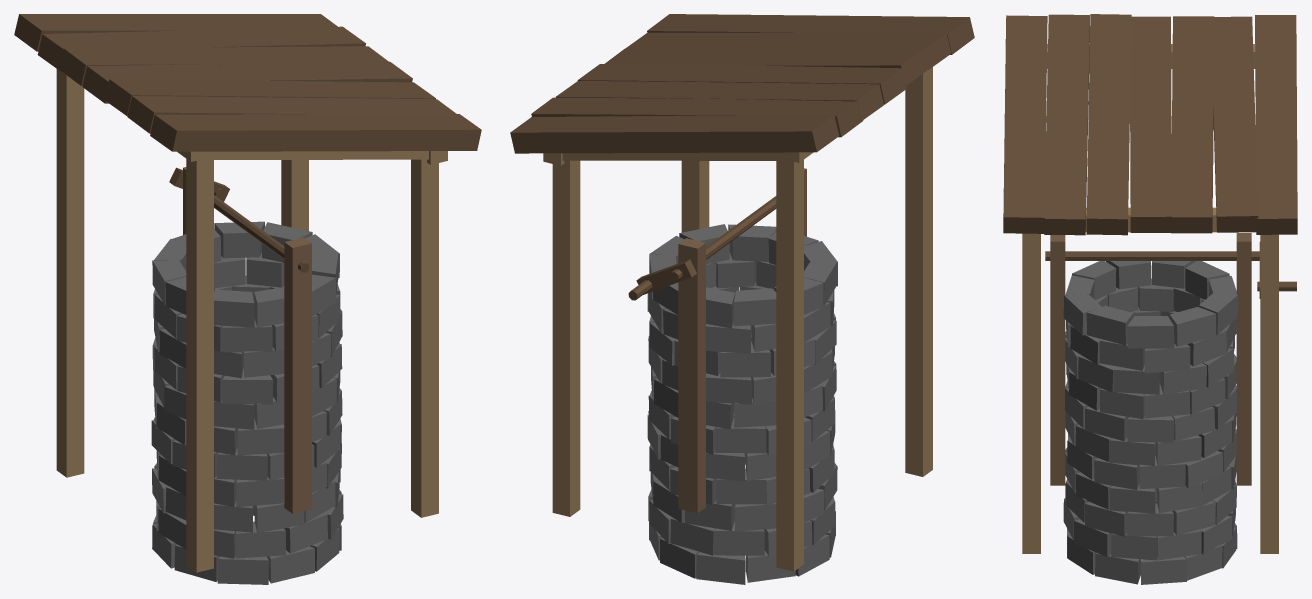
3 views of the same model, side by side, from view 1: azimuth 30°, elevation 25°; view 2: azimuth 150°, elevation 25°; view 3: azimuth 270°, elevation 25° (orthographic). The views are drawn at different scales.
Parts seen in each view (by area): view 1: jin.002, 立方体, 立方体.007, 立方体.004, 立方体.005; view 2: jin.002, 立方体, 立方体.007, 立方体.004, 立方体.005; view 3: 立方体, jin.002, 立方体.007, 立方体.004, 立方体.005.
Boxes of the visible parts, <box> form: jin.002: <box>151,221,343,584</box>; 立方体: <box>14,14,481,151</box>; 立方体.007: <box>56,69,447,572</box>; 立方体.004: <box>183,167,311,513</box>; 立方体.005: <box>169,167,309,272</box>; jin.002: <box>647,224,837,584</box>; 立方体: <box>510,14,974,153</box>; 立方体.007: <box>543,67,932,571</box>; 立方体.004: <box>678,168,806,513</box>; 立方体.005: <box>628,196,776,300</box>; 立方体: <box>1003,14,1297,235</box>; jin.002: <box>1063,261,1237,584</box>; 立方体.007: <box>1022,44,1278,553</box>; 立方体.004: <box>1050,233,1251,485</box>; 立方体.005: <box>1045,242,1296,298</box>.
Bounding box in the file's own units: 158 × 250 × 142.
